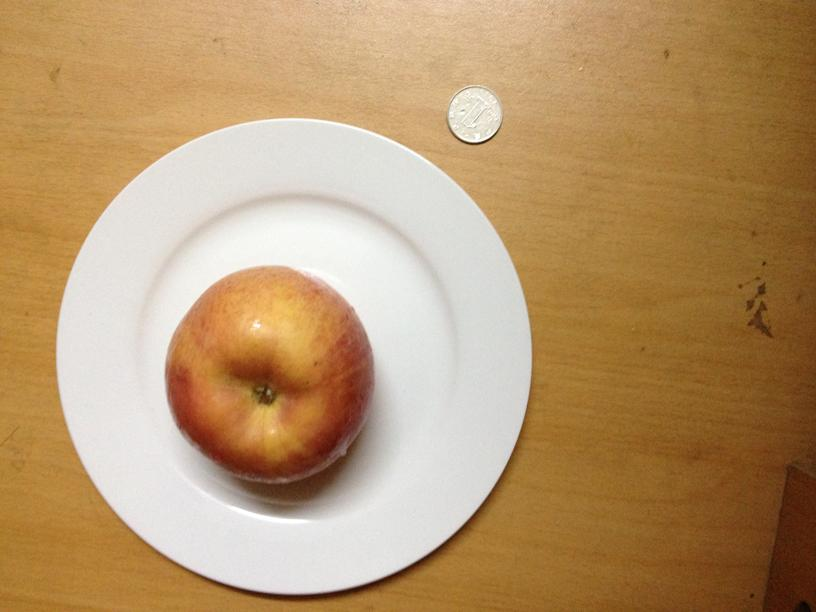apple: (161, 267, 376, 485)
coin: (445, 84, 501, 144)
